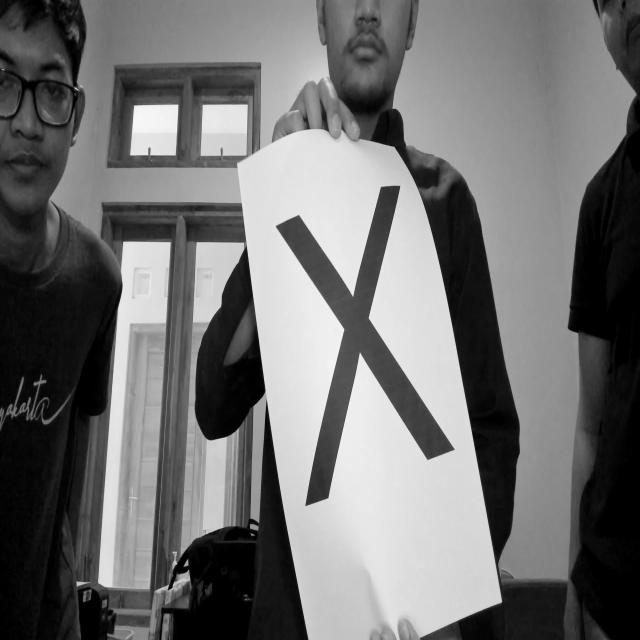x: (266, 172, 458, 526)
